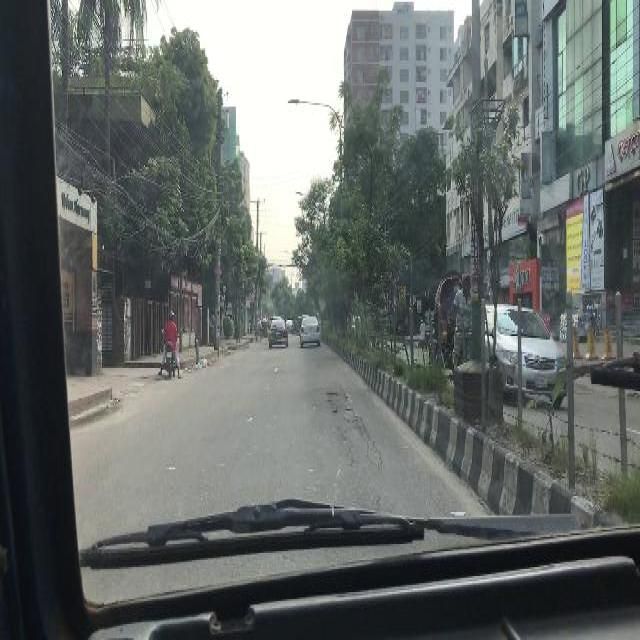car: (484, 305, 568, 399), (300, 317, 320, 344), (268, 316, 286, 345), (284, 318, 292, 332)
motorbike: (161, 326, 181, 378)
rickshaw: (429, 268, 465, 372)
